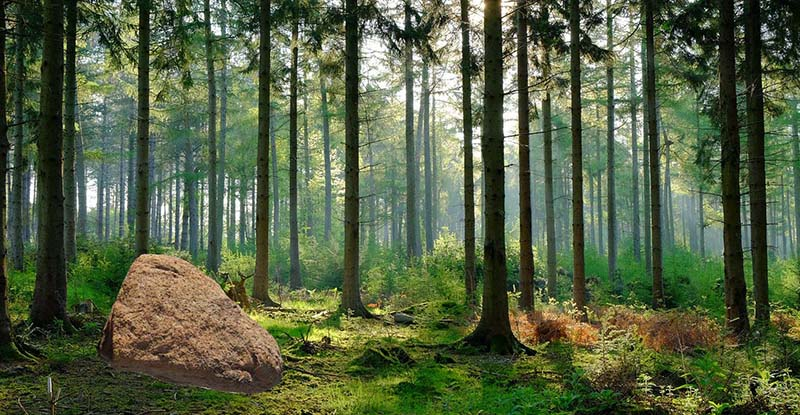Rocks: (94, 247, 294, 397)
